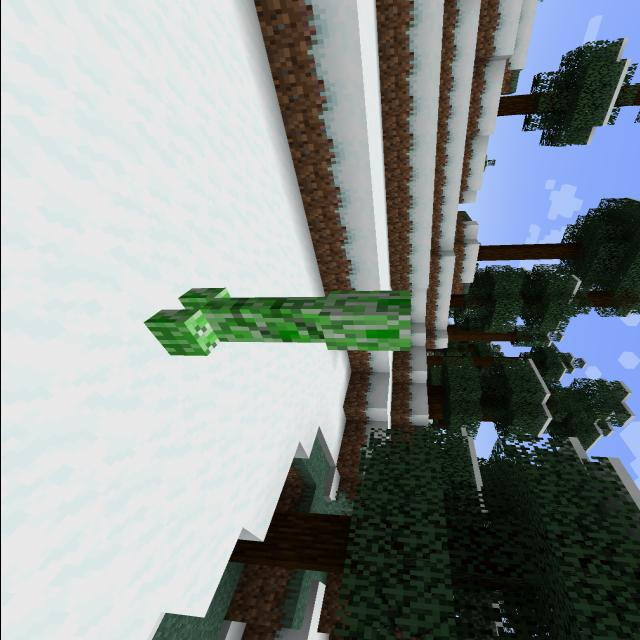Creeper: (124, 278, 428, 364)
